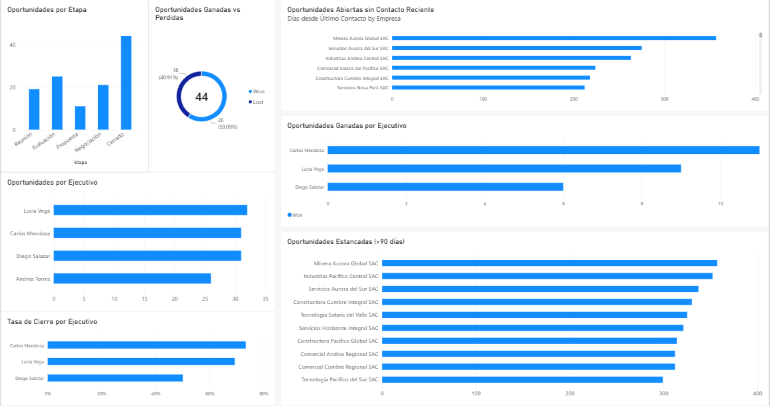

The page's visual inventory and layout, read from the dashboard file:
{"tool":"powerbi","page":{"name":"Embudo Comercial y Desempeño","canvas":[1920,1080],"ordinal":1},"visuals":[{"type":"clusteredColumnChart","title":"Oportunidades por Etapa","fields":{"Category":["DimStage.Stage"],"Y":["CountNonNull(commercial_dataset.opportunity_id)"]},"box":[0,0,369.8,431.9],"z":0},{"type":"donutChart","title":"Oportunidades Ganadas vs Perdidas","fields":{"Category":["commercial_dataset.result"],"Y":["CountNonNull(commercial_dataset.opportunity_id)"]},"box":[369.8,0,317.3,431.9],"z":1000},{"type":"clusteredBarChart","title":"Oportunidades por Ejecutivo","fields":{"Category":["commercial_dataset.assigned_executive"],"Y":["CountNonNull(commercial_dataset.opportunity_id)"]},"box":[0,431.9,687.1,348.3],"z":2000},{"type":"clusteredBarChart","title":"Oportunidades Ganadas por Ejecutivo","fields":{"Category":["commercial_dataset.assigned_executive"],"Series":["commercial_dataset.result"],"Y":["CountNonNull(commercial_dataset.opportunity_id)"]},"box":[699.1,291.1,1221.6,279.2],"z":3000},{"type":"clusteredBarChart","title":"Tasa de Cierre por Ejecutivo","fields":{"Category":["commercial_dataset.assigned_executive"],"Y":["commercial_dataset.Win Rate by Executive"]},"box":[0,780.2,687.1,236.2],"z":4000},{"type":"clusteredBarChart","title":"Oportunidades Estancadas (>90 días)","fields":{"Category":["commercial_dataset.company_name"],"Y":["Sum(commercial_dataset.opportunity_age_days)"]},"box":[699.1,579.8,1221.6,436.6],"z":5000},{"type":"clusteredBarChart","title":"Oportunidades Abiertas sin Contacto Reciente","fields":{"Category":["commercial_dataset.company_name"],"Y":["Sum(commercial_dataset.days_since_last_contact)"]},"box":[699.1,0,1221.6,279.2],"z":6000}]}

Visuals, with their boxes on the page's 1920x1080 design canvas (x1, y1, x2, y2). These are canvas units, not pixel positions in the 770x406 screenshot, which may show the page scaled, cropped or inside an application window:
"Oportunidades por Etapa" clusteredColumnChart: detection(0, 0, 370, 432)
"Oportunidades Ganadas vs Perdidas" donutChart: detection(370, 0, 687, 432)
"Oportunidades por Ejecutivo" clusteredBarChart: detection(0, 432, 687, 780)
"Oportunidades Ganadas por Ejecutivo" clusteredBarChart: detection(699, 291, 1921, 570)
"Tasa de Cierre por Ejecutivo" clusteredBarChart: detection(0, 780, 687, 1016)
"Oportunidades Estancadas (>90 días)" clusteredBarChart: detection(699, 580, 1921, 1016)
"Oportunidades Abiertas sin Contacto Reciente" clusteredBarChart: detection(699, 0, 1921, 279)
